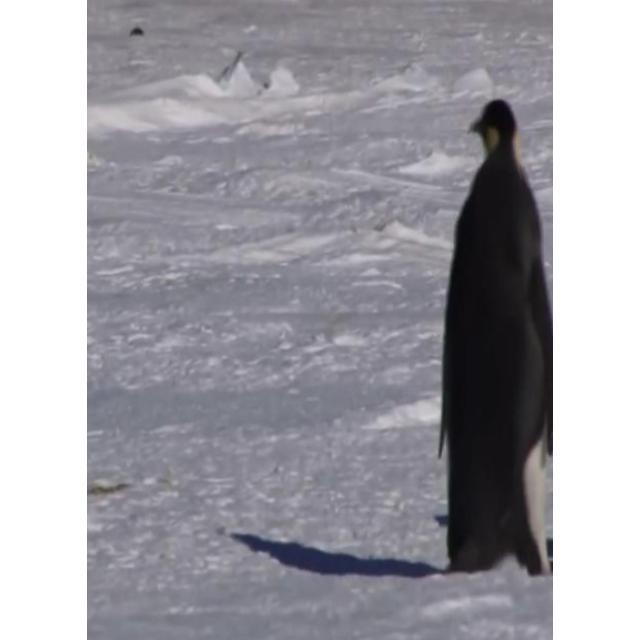penguin: (437, 99, 551, 579)
